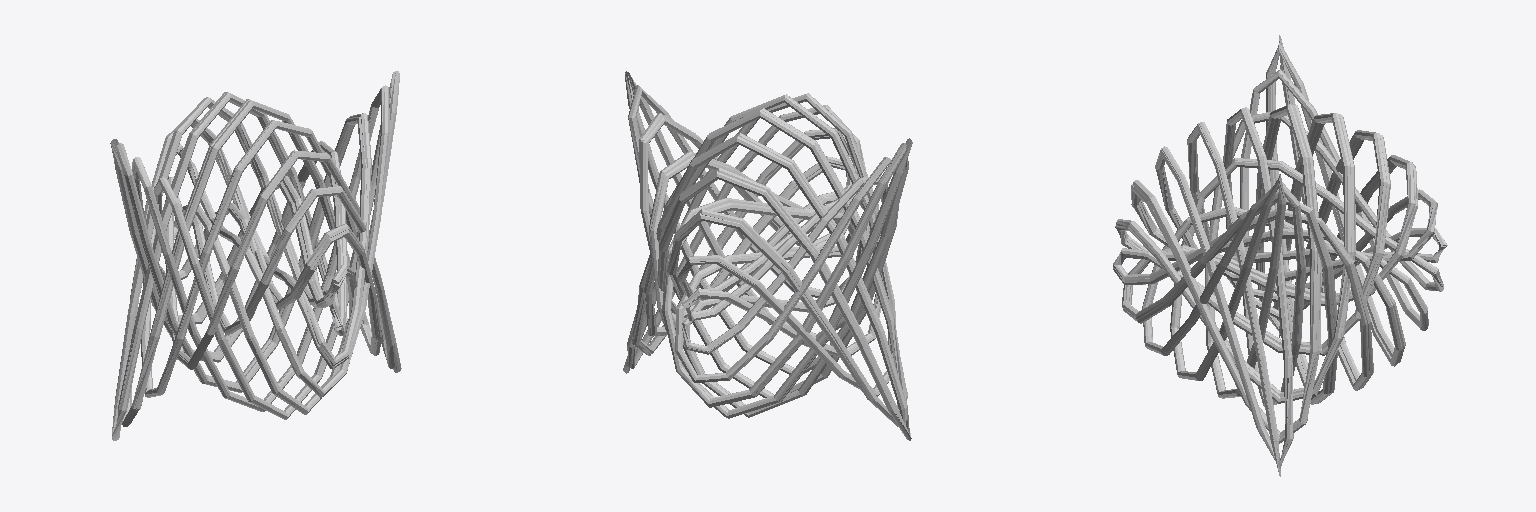
Rendered from oneTwo.obj.
3 views of the same model, side by side, from view 1: azimuth 30°, elevation 25°; view 2: azimuth 150°, elevation 25°; view 3: azimuth 270°, elevation 25° (orthographic).
Visible parts, largest first — view 1: Sweep; view 2: Sweep; view 3: Sweep.
Part boxes in pixels (bbox=[...]): Sweep: bbox=[110, 71, 401, 440]; Sweep: bbox=[623, 71, 912, 440]; Sweep: bbox=[1113, 35, 1447, 476].
Size of the model in its own units: 1.6 by 1.6 by 1.6.